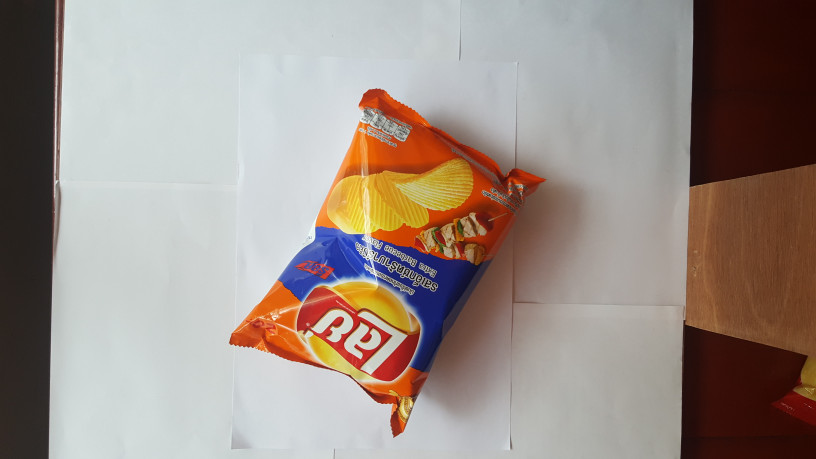lays-bbq: (233, 80, 548, 438)
